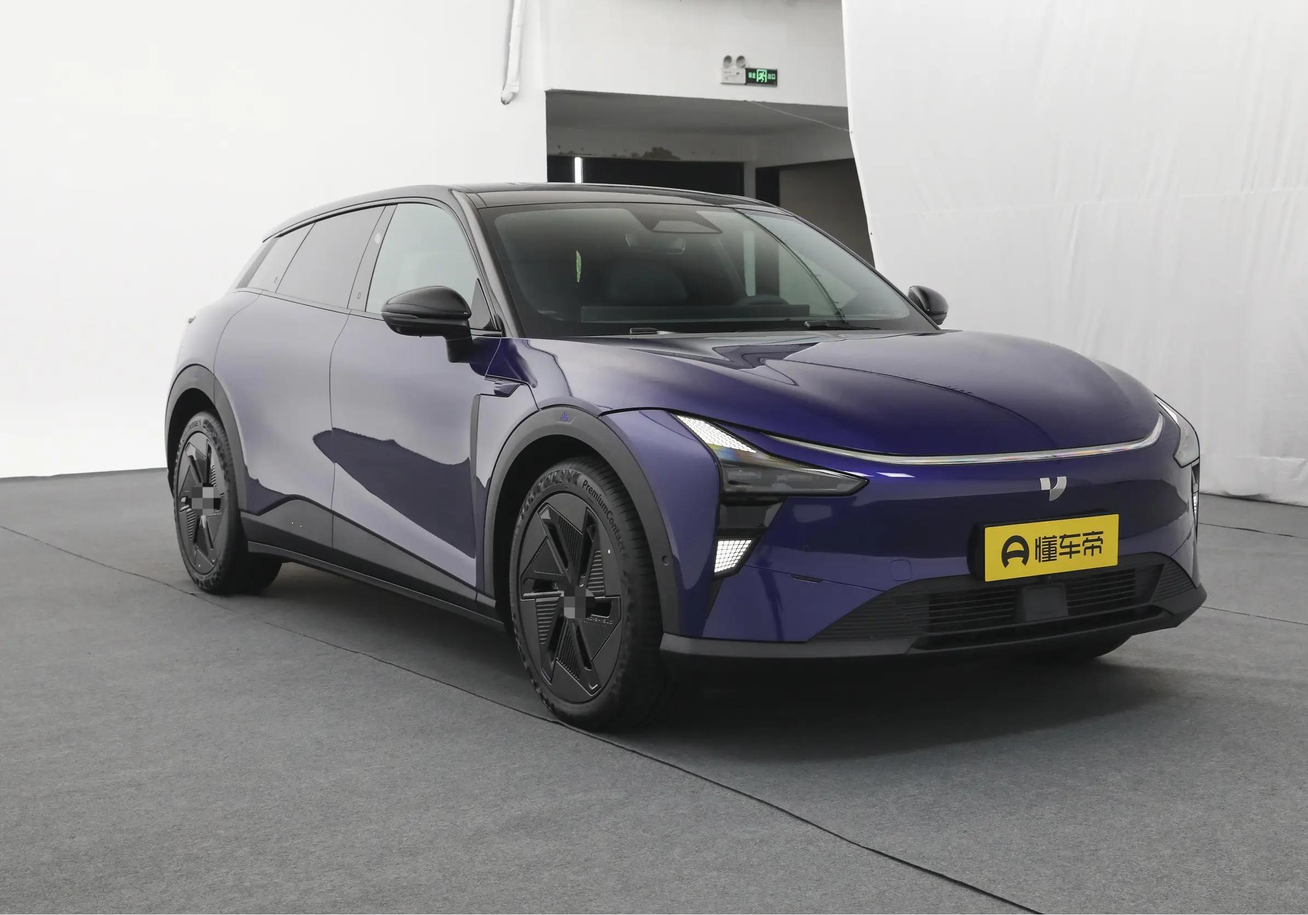JIYUE: (1040, 475, 1068, 501)
